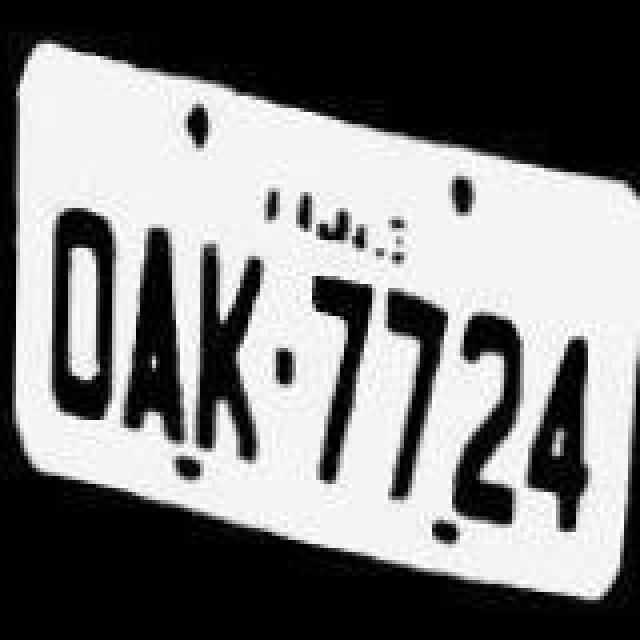2: (450, 294, 530, 526)
4: (530, 308, 602, 532)
7: (304, 262, 380, 498), (376, 278, 452, 510)
A: (114, 226, 190, 458)
K: (188, 230, 268, 470)
O: (38, 200, 122, 448)
